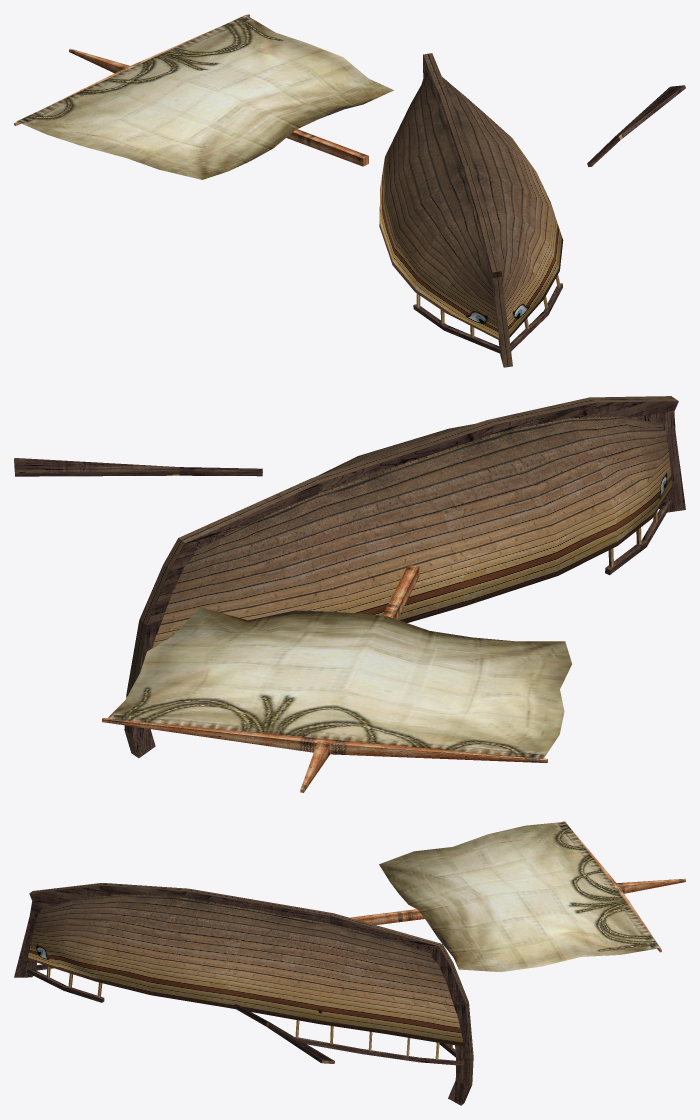
File: naufragio.glb
3 views of the same model, one above another, from view 1: azimuth 30°, elevation 25°; view 2: azimuth 150°, elevation 25°; view 3: azimuth 270°, elevation 25° (orthographic). The views are drawn at different scales.
Parts seen in each view (by area): view 1: Casco, Vela; view 2: Casco, Vela; view 3: Casco, Vela.
Part boxes in pixels (x1,y1,x2,y2): Casco: (379, 53, 685, 367); Vela: (14, 14, 393, 179); Casco: (14, 396, 685, 757); Vela: (102, 565, 571, 792); Casco: (14, 883, 473, 1105); Vela: (350, 821, 685, 971).
Size of the model in its own units: 11.95 by 3.7 by 14.02.
Materials: 2 (2 with a texture image).
